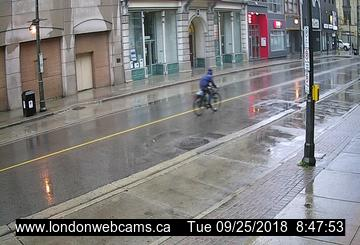riding bicycle: (191, 66, 225, 117)
